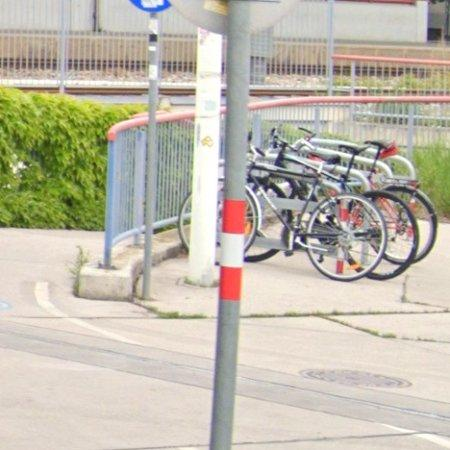bicycles: (246, 160, 402, 282)
